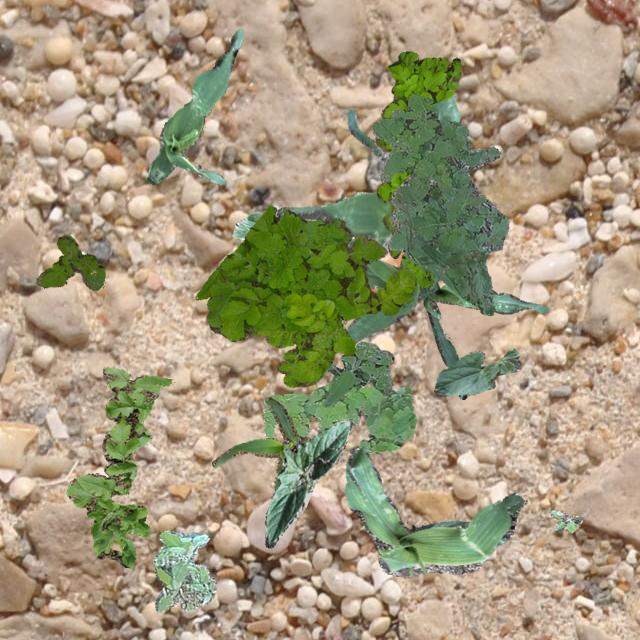crop: (276, 94, 458, 250), (344, 446, 524, 576), (344, 238, 466, 398), (146, 30, 242, 184), (264, 418, 352, 546), (210, 396, 312, 492), (422, 284, 548, 318), (432, 348, 520, 396), (232, 210, 260, 240), (468, 148, 481, 158)
weed: (194, 205, 414, 386), (370, 93, 508, 314), (66, 366, 170, 568), (375, 51, 459, 286), (262, 382, 416, 452), (152, 530, 215, 612), (322, 340, 392, 406), (36, 236, 104, 290), (550, 508, 582, 532)
